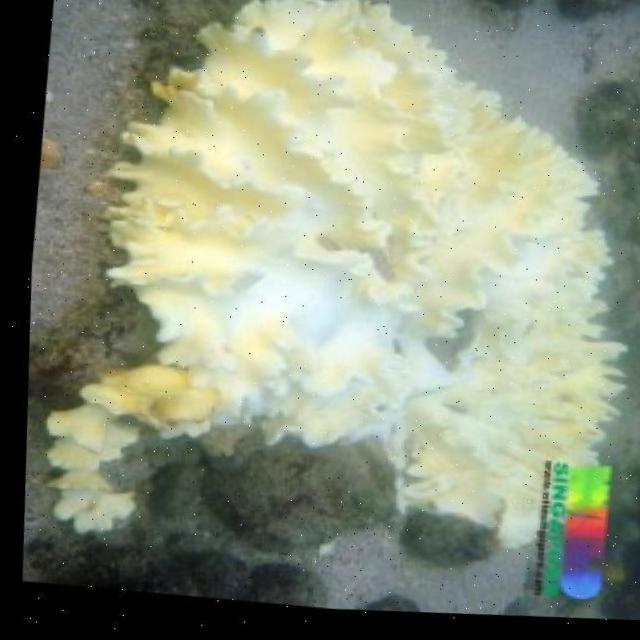Bleached Coral: (33, 0, 640, 571)
